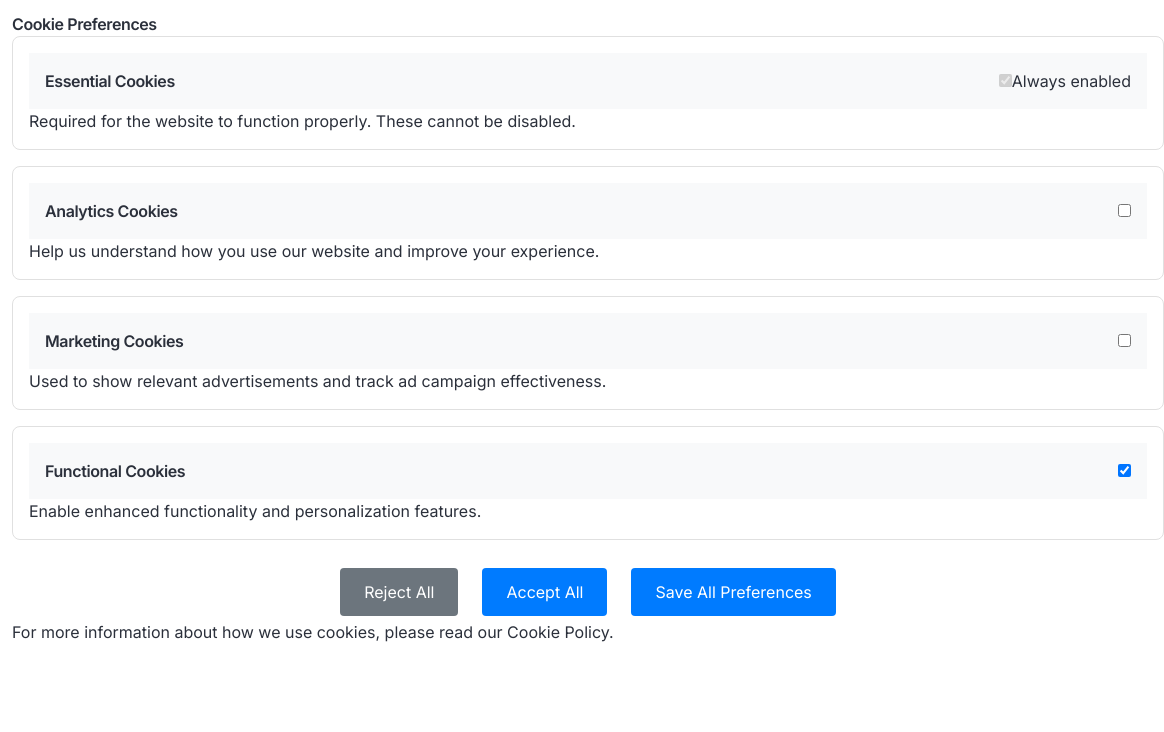
CookiePreferences Component › should handle update errors
Click the switch named "Analytics Cookies".
click(1124, 210)  # box [1118,204,1131,217]
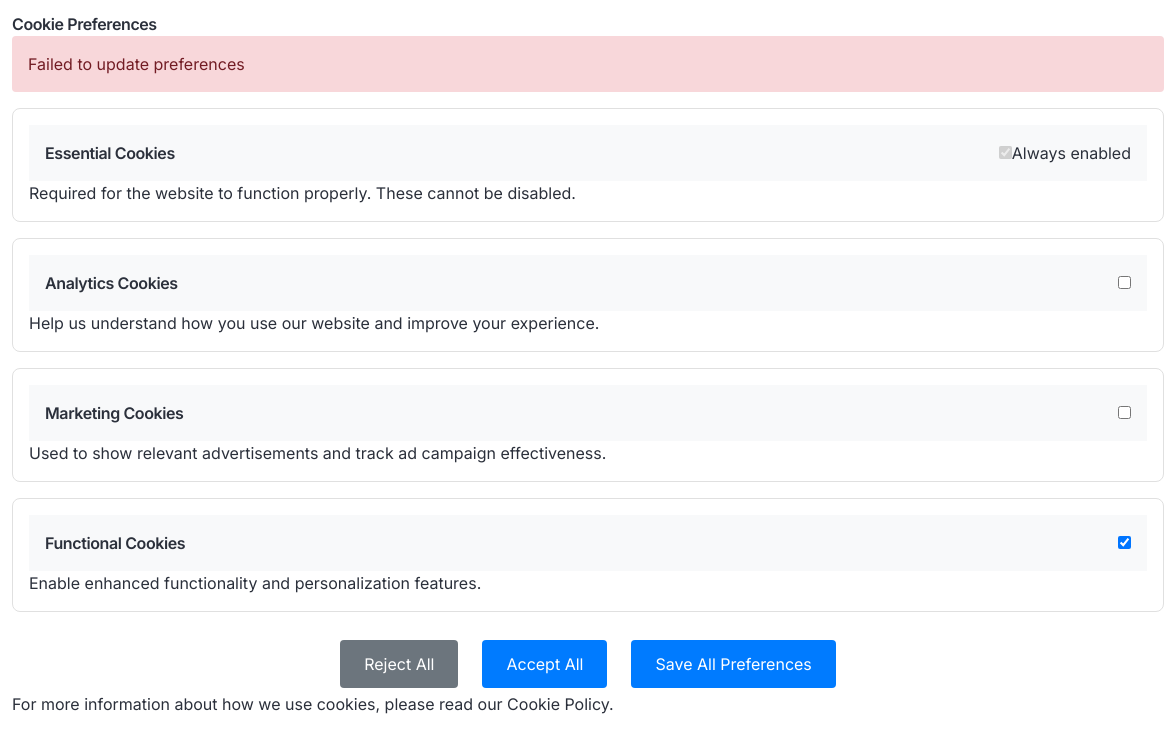
Expected: the text "Failed to update preferences" is shown, [12,36,1163,92]
